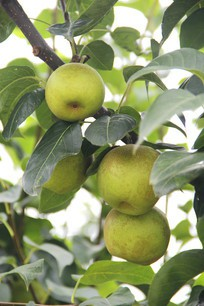pear: (95, 143, 161, 214), (102, 205, 169, 264), (45, 62, 104, 120)
